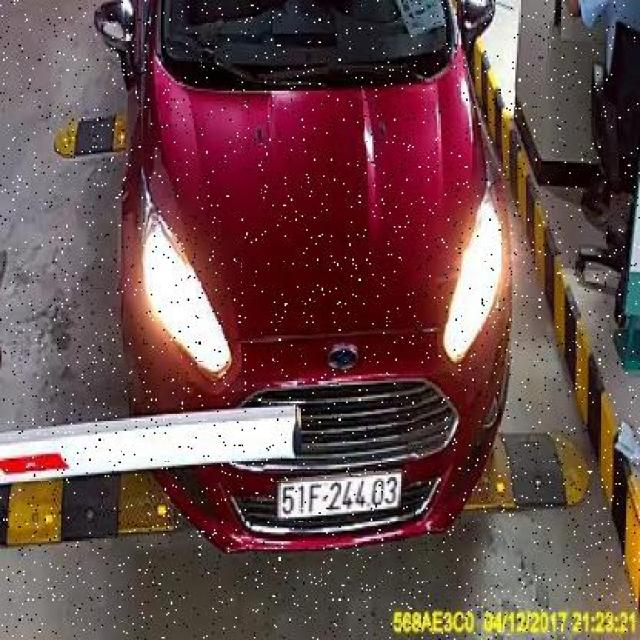number_plate: (268, 467, 415, 524)
